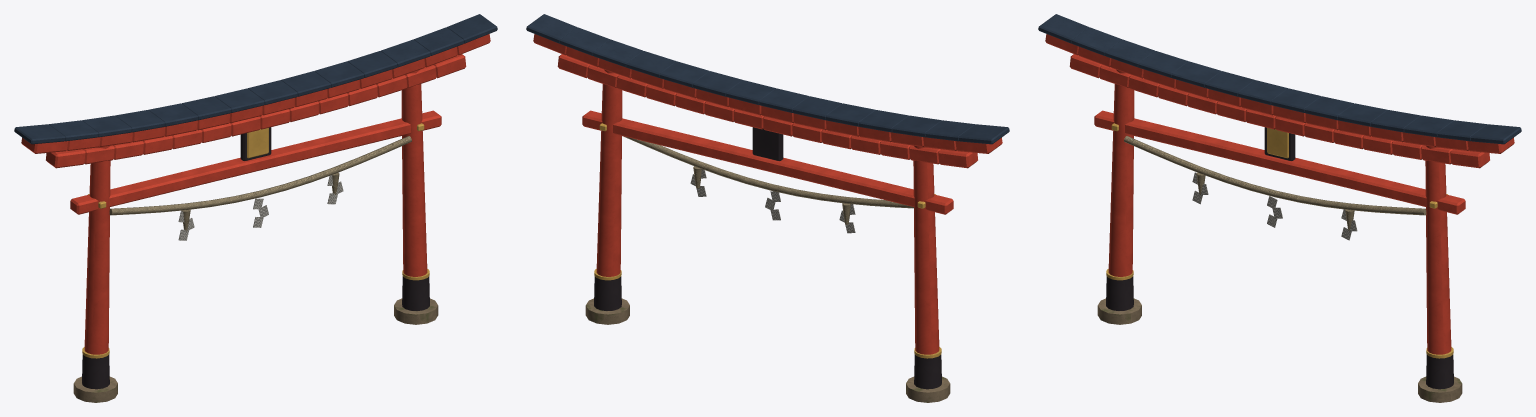
File: env_torii.glb
3 renders of one model, left to right at view 1: azimuth 30°, elevation 25°; view 2: azimuth 150°, elevation 25°; view 3: azimuth 330°, elevation 25°, orthographic.
Parts seen in each view (by area): view 1: env_torii; view 2: env_torii; view 3: env_torii.
Part boxes in pixels (<box>): env_torii: <box>14,14,497,402</box>; env_torii: <box>526,14,1009,402</box>; env_torii: <box>1038,14,1521,402</box>.
Bounding box in the file's own units: 8.53 × 4.85 × 0.7.
3 materials, 3 textured.
